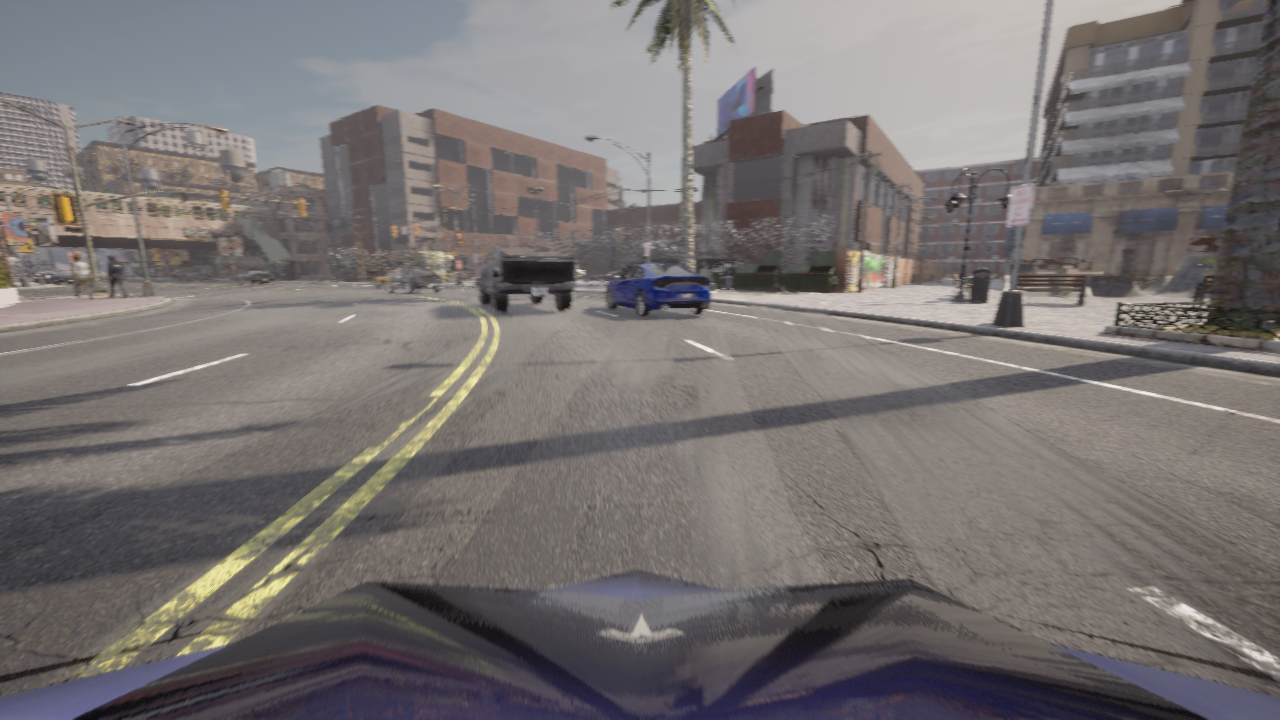cyclist: (0, 569, 1279, 719), (476, 247, 574, 312), (606, 262, 709, 316), (386, 268, 441, 293), (237, 269, 274, 286), (708, 261, 740, 280), (372, 269, 401, 288), (42, 269, 72, 284), (51, 271, 72, 284), (171, 269, 193, 280), (597, 273, 616, 280), (185, 273, 204, 280), (32, 271, 44, 282), (576, 264, 584, 279), (204, 274, 211, 280), (231, 274, 234, 279), (24, 273, 27, 277), (629, 264, 633, 267), (694, 272, 697, 274), (31, 275, 33, 277), (18, 273, 19, 276), (6, 276, 8, 277), (675, 263, 677, 264)
pedestrian: (71, 256, 93, 298), (107, 256, 127, 298)
